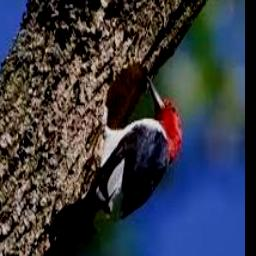Woodpecker: (49, 76, 182, 256)
